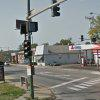Traffic light: (47, 1, 72, 22)
